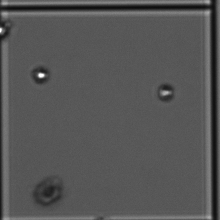Dead Cell: (30, 174, 68, 208)
Living Cell: (1, 20, 15, 50), (155, 83, 175, 102), (32, 66, 51, 84)
